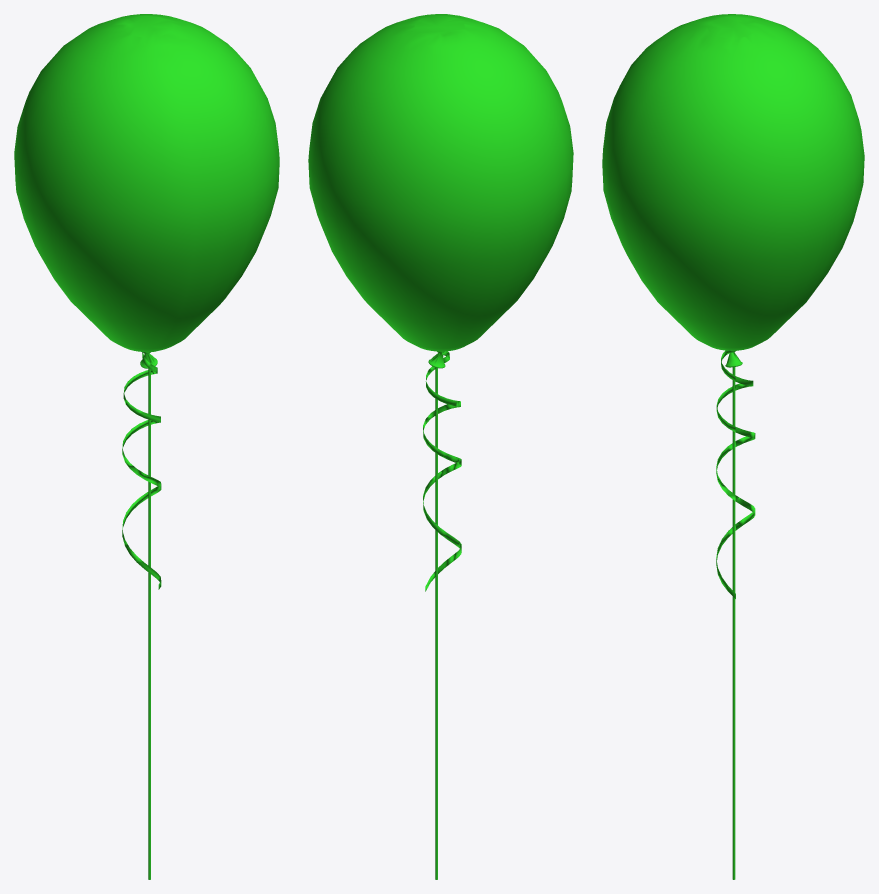
File: Green  Ballon.fbx
3 views of the same model, side by side, from view 1: azimuth 30°, elevation 25°; view 2: azimuth 150°, elevation 25°; view 3: azimuth 270°, elevation 25° (orthographic).
Visible parts, largest first — view 1: Object_12.002; view 2: Object_12.002; view 3: Object_12.002.
Boxes of the visible parts, x1=… form: Object_12.002: x1=14, y1=14, x2=279, y2=879; Object_12.002: x1=308, y1=14, x2=573, y2=879; Object_12.002: x1=602, y1=14, x2=864, y2=879.
Bounding box in the file's own units: 200 × 707 × 198.
